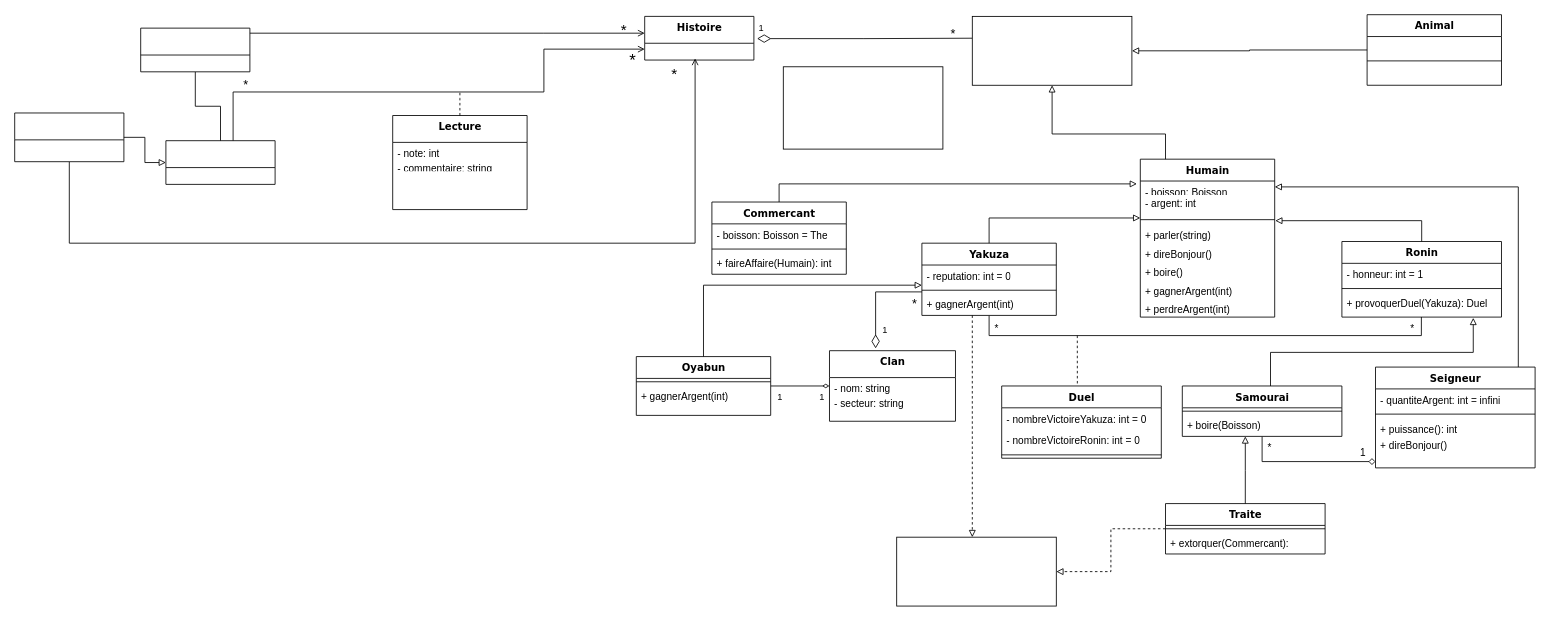
Some shapes in this 1550 by 621 pixel diagram are drawn without their labels. Each missing label, with the centre of its shape:
"<< interface >> Mechant + extorquer(Commercant)" goes at (x=976, y=571).
"<<abstract>> Personnage - nom: string" goes at (x=1051, y=50).
"<<enum>> Boisson The Sake Biere" goes at (x=862, y=107).
"Auteur" goes at (x=69, y=137).
"Bibliotheque" goes at (x=195, y=49).
"Lecteur" goes at (x=220, y=162).
